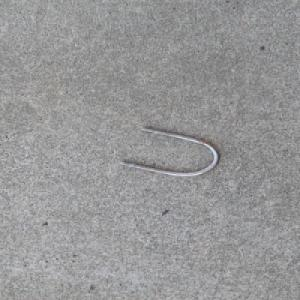ClampPart: (118, 126, 221, 177)
